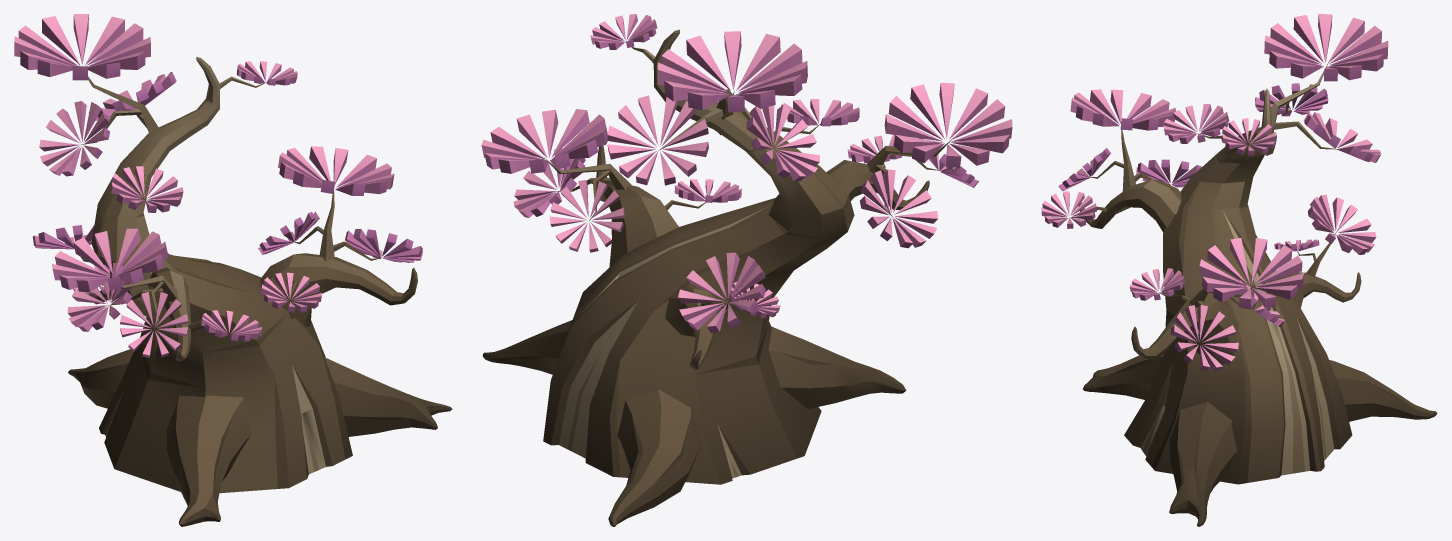
File: ancient_tree_pink_1.glb
3 renders of one model, left to right at view 1: azimuth 30°, elevation 25°; view 2: azimuth 150°, elevation 25°; view 3: azimuth 270°, elevation 25°, orthographic. The views are drawn at different scales.
Visible parts, largest first — view 1: ancient_tree_pink_1; view 2: ancient_tree_pink_1; view 3: ancient_tree_pink_1.
Boxes of the visible parts, x1,y1,x2,y2 form: ancient_tree_pink_1: [14, 14, 452, 526]; ancient_tree_pink_1: [481, 14, 1012, 526]; ancient_tree_pink_1: [1041, 14, 1437, 526].
Bounding box in the file's own units: 6.88 × 5.98 × 6.01.
Materials: 1 (1 with a texture image).
